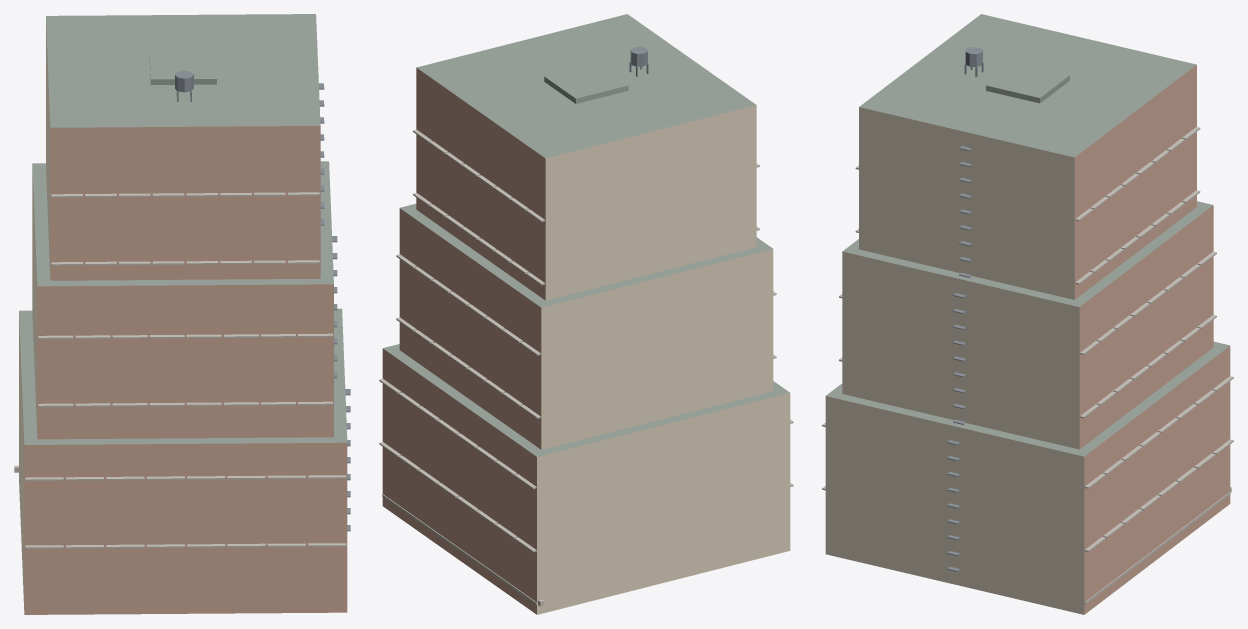
The model's file is doitt-131170__lod_1.glb.
3 renders of one model, left to right at view 1: azimuth 30°, elevation 25°; view 2: azimuth 150°, elevation 25°; view 3: azimuth 270°, elevation 25°, orthographic. The views are drawn at different scales.
Bounding box in the file's own units: 83.08 × 104 × 83.54.
